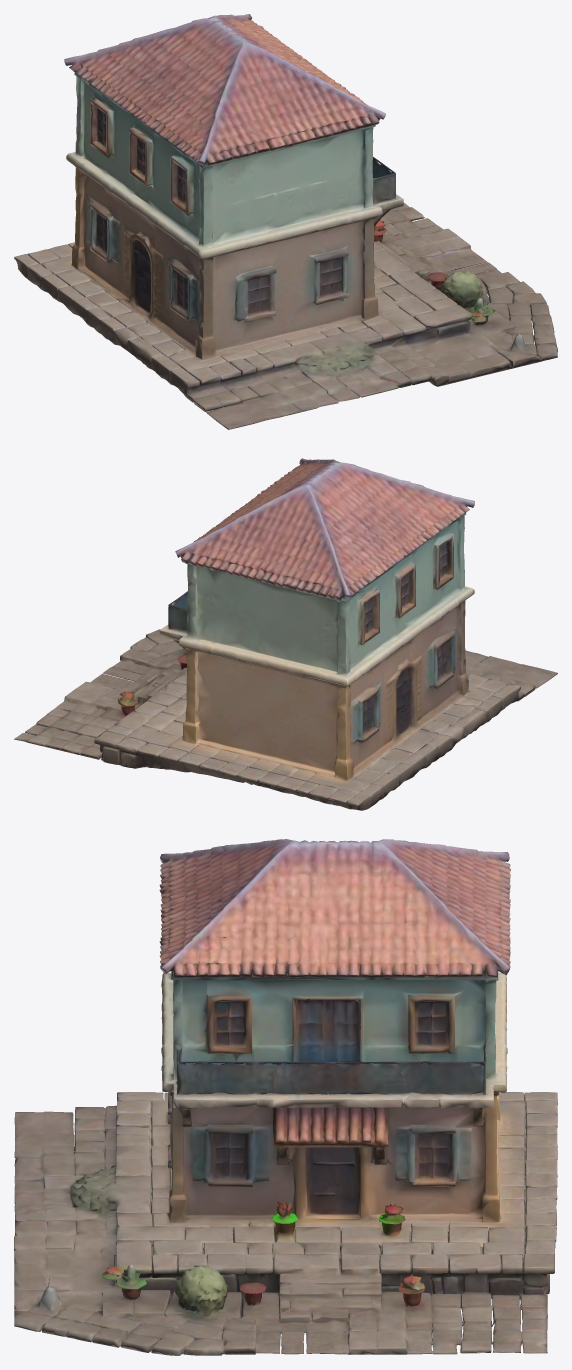
The model's file is cid_sobrado.glb.
The picture shows the model from 3 angles, top to bottom: view 1: azimuth 30°, elevation 25°; view 2: azimuth 150°, elevation 25°; view 3: azimuth 270°, elevation 25°; orthographic projection. The views are drawn at different scales.
Parts seen in each view (by area): view 1: tripo_node_fe7c53c8-33cd-4c99-a5db-0e6e33969bbe; view 2: tripo_node_fe7c53c8-33cd-4c99-a5db-0e6e33969bbe; view 3: tripo_node_fe7c53c8-33cd-4c99-a5db-0e6e33969bbe.
Part boxes in pixels (left/top/right/bottom): tripo_node_fe7c53c8-33cd-4c99-a5db-0e6e33969bbe: left=14, top=14, right=557, bottom=429; tripo_node_fe7c53c8-33cd-4c99-a5db-0e6e33969bbe: left=14, top=458, right=557, bottom=810; tripo_node_fe7c53c8-33cd-4c99-a5db-0e6e33969bbe: left=14, top=839, right=557, bottom=1355.
Size of the model in its own units: 1 by 0.7187 by 0.9859.
1 material, 1 textured.
